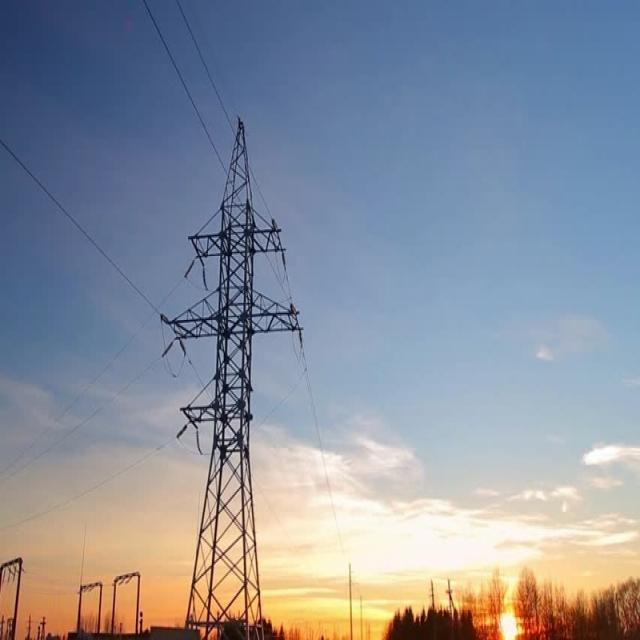non-critical vegetation: (164, 119, 298, 632)
